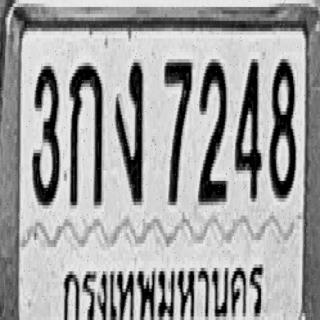A01: (68, 61, 103, 207)
A07: (114, 59, 142, 202)
N02: (197, 58, 227, 204)
N03: (32, 63, 59, 205)
N04: (234, 56, 261, 198)
N07: (163, 59, 191, 205)
N08: (268, 56, 296, 198)
P04: (55, 255, 271, 320)
